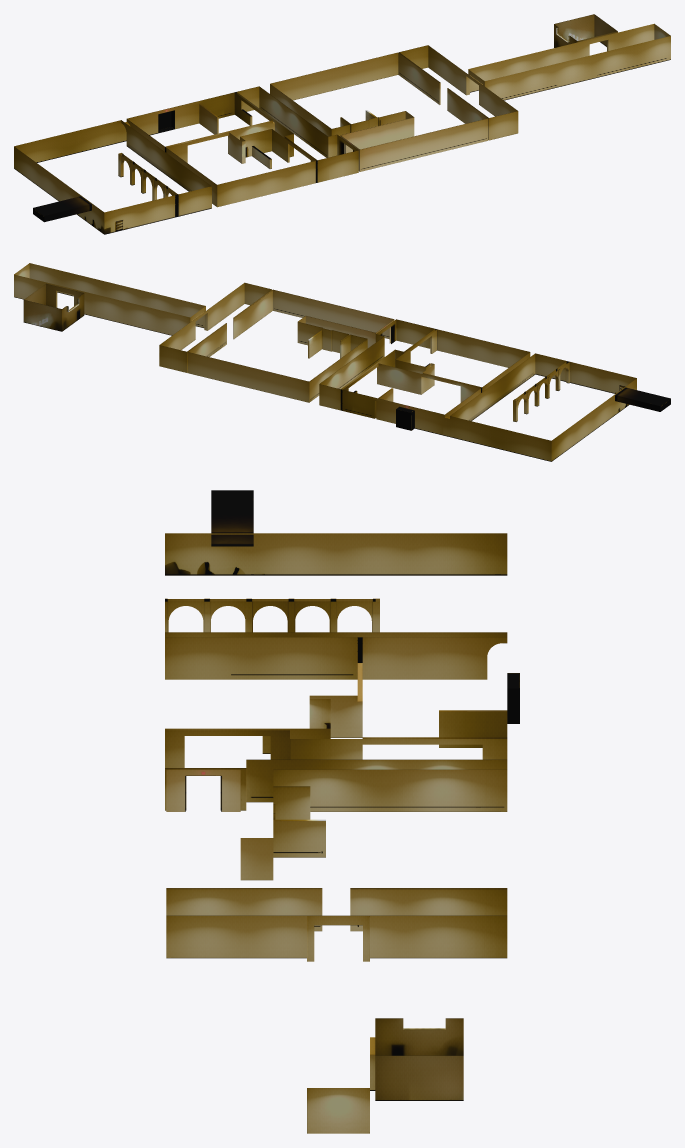
Rendered from Prop_Walls_Ref.obj.
The picture shows the model from 3 angles, top to bottom: view 1: azimuth 30°, elevation 25°; view 2: azimuth 150°, elevation 25°; view 3: azimuth 270°, elevation 25°; orthographic projection. The views are drawn at different scales.
Visible parts, largest first — view 1: Object_14, Object_23, Object_21, Object_12; view 2: Object_14, Object_23, Object_21, Object_12; view 3: Object_14, Object_23, Object_21, Object_12.
Boxes of the visible parts, x1,y1,x2,y2 form: Object_14: (270, 45, 518, 171); Object_23: (124, 86, 358, 207); Object_21: (14, 120, 211, 234); Object_12: (468, 14, 670, 100); Object_14: (159, 282, 394, 402); Object_23: (319, 319, 530, 436); Object_21: (447, 353, 670, 461); Object_12: (14, 263, 205, 335); Object_14: (166, 769, 507, 958); Object_23: (165, 637, 519, 810); Object_21: (165, 490, 507, 637); Object_12: (307, 916, 463, 1133).
Size of the model in its own units: 8153 by 288 by 2031.
Materials: 4 (4 with a texture image).
